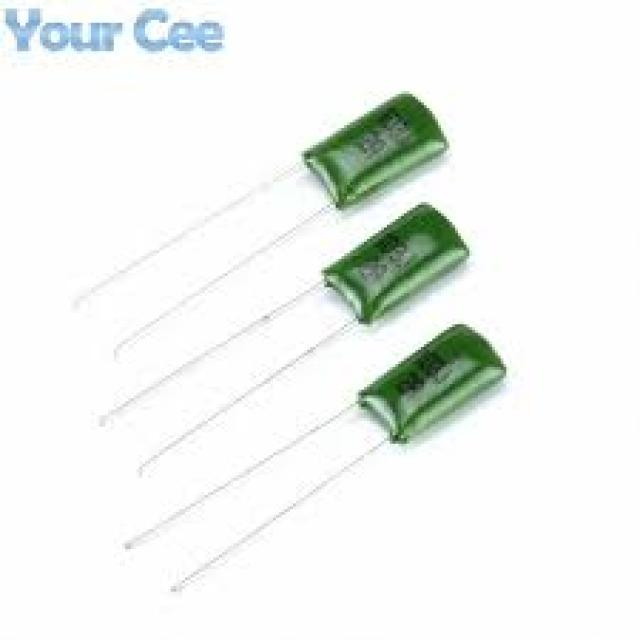Capacitor: (324, 202, 469, 326), (360, 322, 506, 445), (304, 93, 449, 212)
